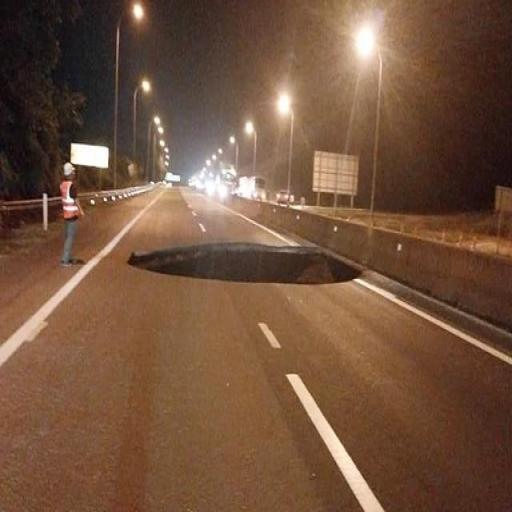Concentric_Crack: (128, 242, 360, 284)
